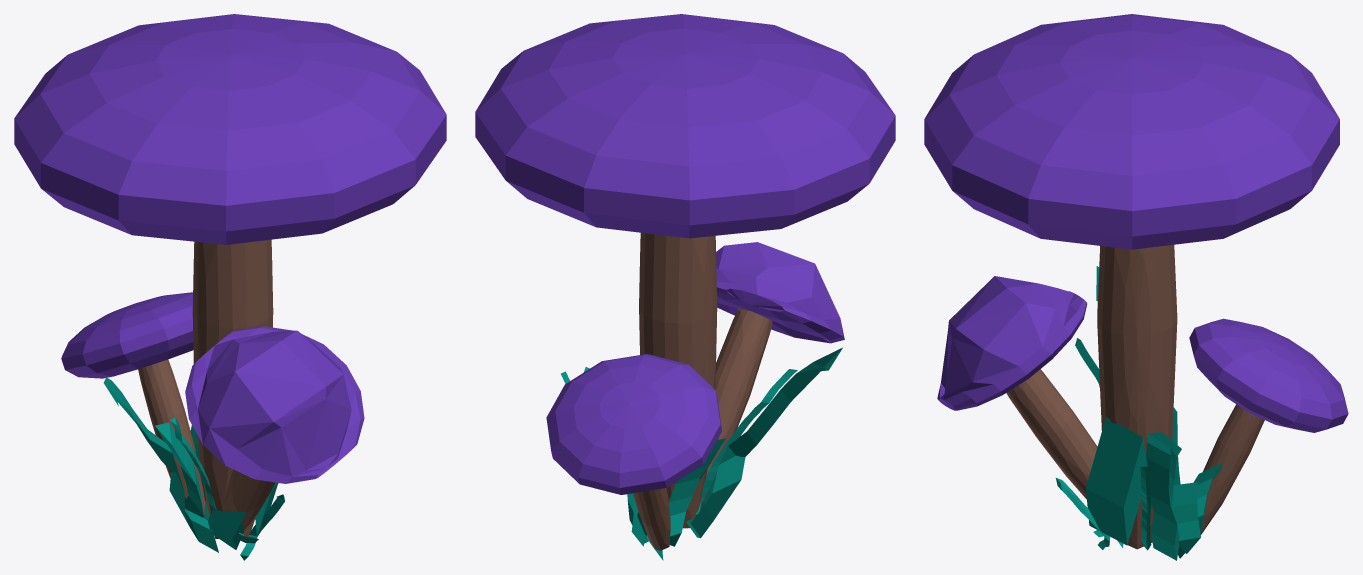
3 renders of one model, left to right at view 1: azimuth 30°, elevation 25°; view 2: azimuth 150°, elevation 25°; view 3: azimuth 270°, elevation 25°, orthographic. The views are drawn at different scales.
Parts seen in each view (by area): view 1: mesh_1645808732, mesh_571718922, mesh_1159648629, mesh_547370880, mesh_2141403206, group_504461164, mesh_399253731, group_66995271, group_340974971, group_1351187783, group_407134231; view 2: mesh_1645808732, mesh_547370880, mesh_1159648629, mesh_571718922, mesh_399253731, group_504461164, mesh_2141403206, group_66995271, group_1351187783; view 3: mesh_1645808732, mesh_1159648629, mesh_571718922, mesh_547370880, group_149428160, mesh_399253731, mesh_2141403206, group_930944078, group_363541520, group_301189506, group_1405660490, group_407134231.
Part boxes in pixels (left/top/right/bottom): mesh_1645808732: left=14, top=14, right=446, bottom=244; mesh_571718922: left=185, top=326, right=364, bottom=483; mesh_1159648629: left=192, top=239, right=273, bottom=538; mesh_547370880: left=61, top=292, right=193, bottom=378; mesh_2141403206: left=138, top=359, right=205, bottom=517; group_504461164: left=103, top=377, right=218, bottom=552; mesh_399253731: left=223, top=469, right=275, bottom=529; group_66995271: left=155, top=422, right=203, bottom=517; group_340974971: left=207, top=510, right=246, bottom=549; group_1351187783: left=170, top=417, right=216, bottom=510; group_407134231: left=240, top=494, right=284, bottom=560; mesh_1645808732: left=475, top=14, right=895, bottom=238; mesh_547370880: left=546, top=354, right=721, bottom=494; mesh_1159648629: left=639, top=232, right=717, bottom=528; mesh_571718922: left=716, top=242, right=844, bottom=343; mesh_399253731: left=700, top=308, right=772, bottom=506; group_504461164: left=686, top=347, right=842, bottom=538; mesh_2141403206: left=633, top=488, right=670, bottom=550; group_66995271: left=668, top=438, right=725, bottom=546; group_1351187783: left=695, top=369, right=797, bottom=515; mesh_1645808732: left=924, top=14, right=1339, bottom=249; mesh_1159648629: left=1097, top=244, right=1177, bottom=549; mesh_571718922: left=937, top=276, right=1087, bottom=410; mesh_547370880: left=1189, top=318, right=1348, bottom=432; group_149428160: left=1086, top=417, right=1147, bottom=545; mesh_399253731: left=1006, top=369, right=1097, bottom=499; mesh_2141403206: left=1200, top=404, right=1264, bottom=535; group_930944078: left=1146, top=432, right=1181, bottom=560; group_363541520: left=1172, top=482, right=1200, bottom=553; group_301189506: left=1140, top=466, right=1151, bottom=550; group_1405660490: left=1178, top=463, right=1222, bottom=558; group_407134231: left=1056, top=478, right=1110, bottom=549.
Bounding box in the file's own units: 42.88 × 54.43 × 41.73.
